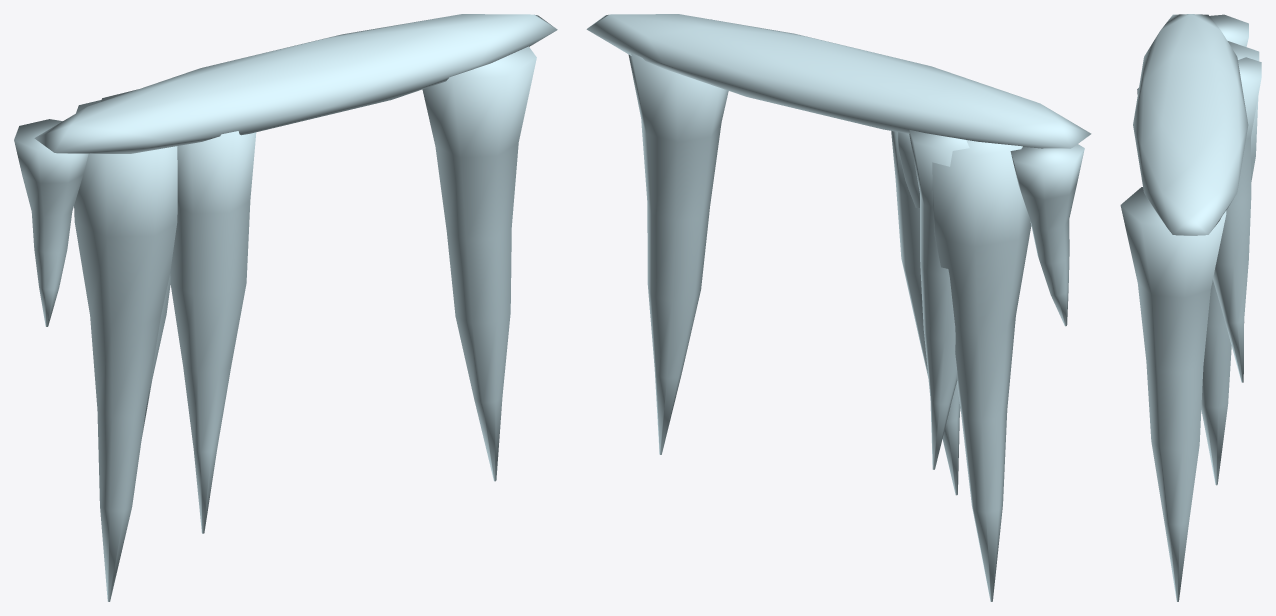
Rendered from icicles_b.glb.
The picture shows the model from 3 angles, left to right: view 1: azimuth 30°, elevation 25°; view 2: azimuth 150°, elevation 25°; view 3: azimuth 270°, elevation 25°; orthographic projection. The views are drawn at different scales.
Parts seen in each view (by area): view 1: Icicles; view 2: Icicles; view 3: Icicles.
Boxes of the visible parts, bbox=[...] form: Icicles: bbox=[14, 14, 557, 601]; Icicles: bbox=[586, 14, 1091, 601]; Icicles: bbox=[1120, 14, 1261, 601].
Bounding box in the file's own units: 1.85 × 1.76 × 0.4888.
